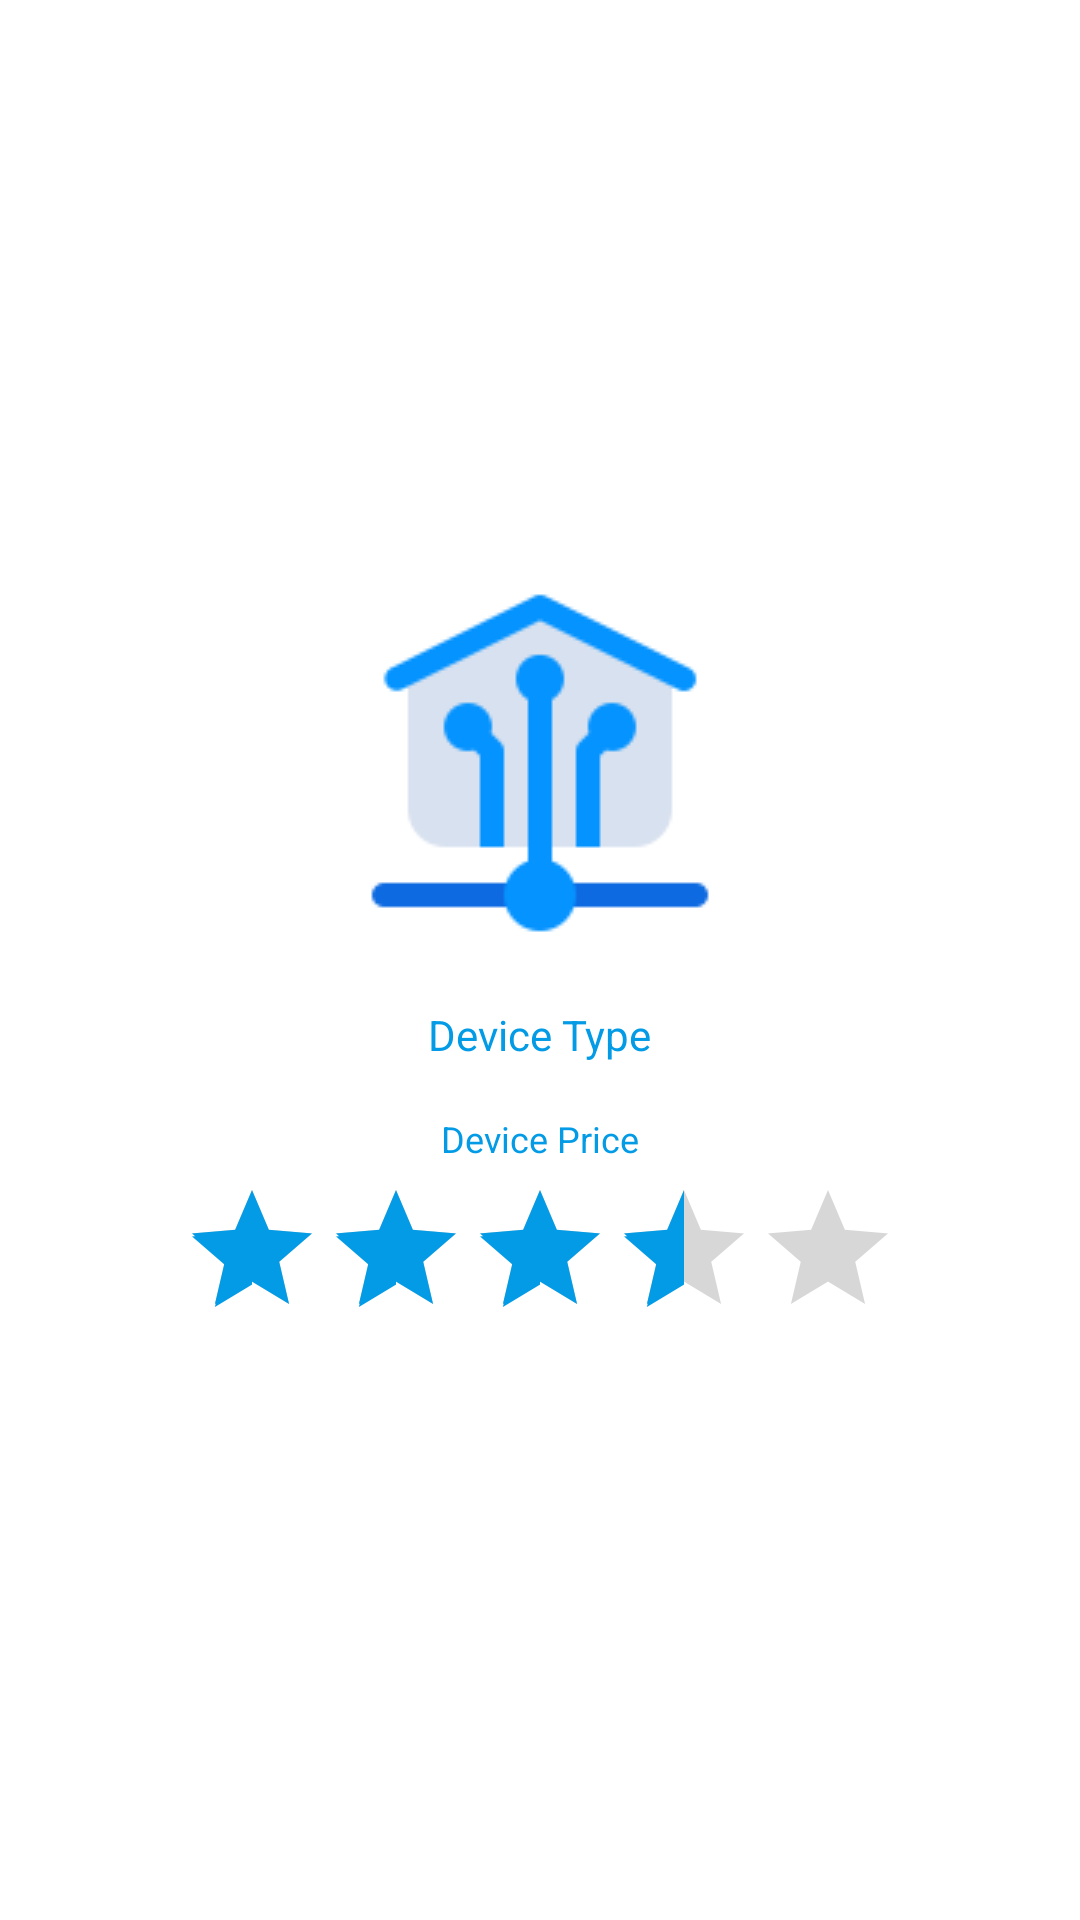

Icons on this 1080w x 1920h Android screen, each with its box as (x1, y1, x2, y2):
smart home: (371, 594, 709, 932)
